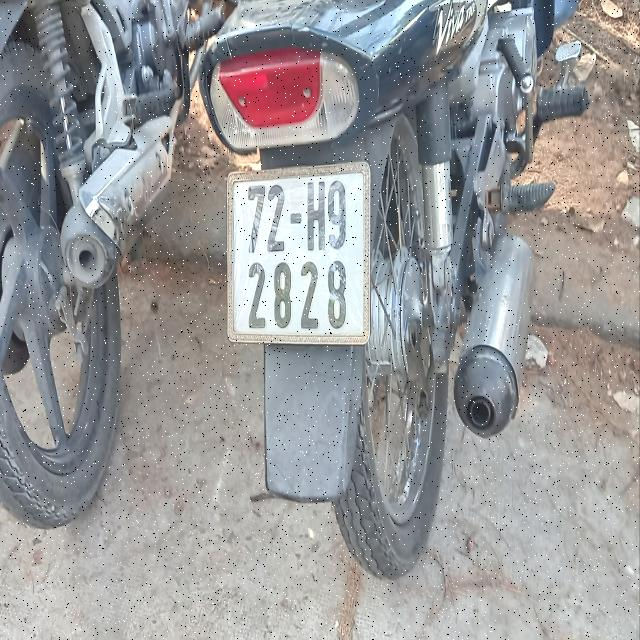2: (300, 260, 320, 329), (266, 183, 285, 252), (248, 262, 266, 330)
7: (248, 185, 266, 255)
8: (328, 260, 348, 332), (274, 261, 291, 328)
9: (328, 181, 346, 251)
H: (306, 178, 326, 252)
